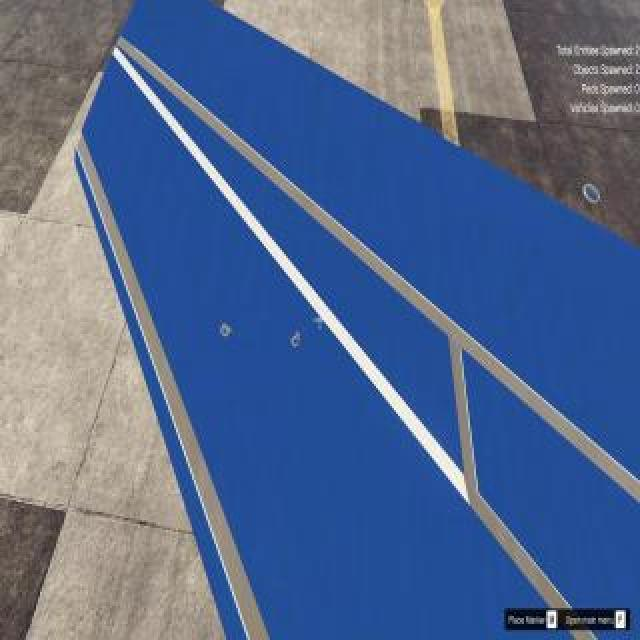crack: (290, 327, 302, 351), (221, 317, 233, 339)
